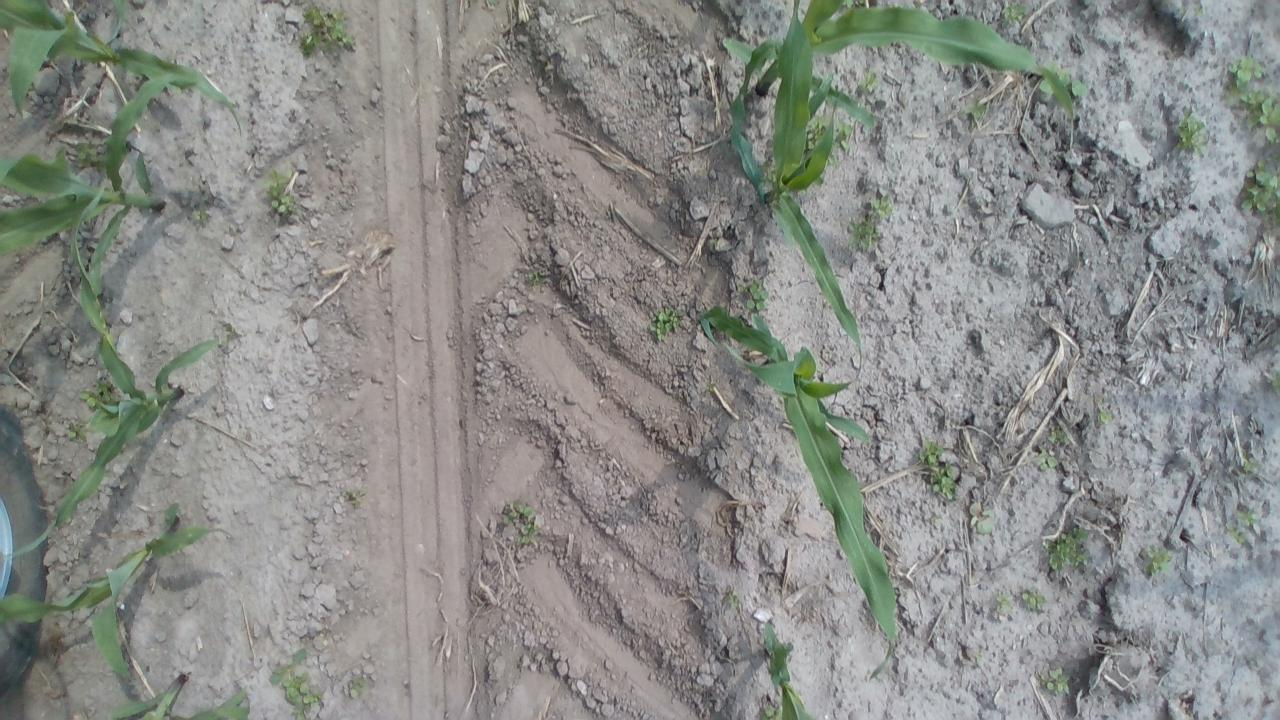Maize: (0, 189, 224, 577), (696, 303, 901, 693), (0, 70, 246, 345), (719, 0, 878, 373), (718, 4, 1082, 134), (0, 501, 238, 698), (0, 0, 252, 139), (98, 671, 260, 720), (753, 616, 826, 720)
Weeds: (1227, 56, 1280, 144), (266, 646, 326, 720), (294, 4, 367, 61), (256, 165, 308, 225), (916, 439, 964, 502), (846, 192, 894, 250), (1046, 525, 1098, 577), (642, 302, 697, 348), (1242, 160, 1280, 226), (1036, 60, 1092, 103), (498, 498, 546, 548), (805, 116, 856, 160), (1172, 110, 1214, 158), (77, 374, 123, 410), (68, 134, 111, 172), (182, 190, 218, 232), (1140, 542, 1178, 578), (745, 278, 776, 322), (1226, 504, 1258, 546), (1042, 666, 1079, 695), (62, 418, 95, 450), (964, 96, 998, 127), (967, 502, 997, 536), (998, 0, 1034, 28), (525, 265, 557, 291), (338, 483, 368, 510), (1019, 586, 1050, 612), (1046, 426, 1082, 448), (1094, 398, 1118, 430), (344, 672, 369, 702), (216, 320, 244, 346), (858, 70, 884, 97), (720, 586, 746, 612), (756, 702, 791, 720), (994, 590, 1018, 616), (1036, 446, 1060, 470), (1238, 454, 1261, 476), (1267, 366, 1280, 398), (836, 0, 872, 10), (767, 164, 779, 185), (812, 172, 828, 187), (702, 378, 716, 394), (710, 236, 722, 247)
